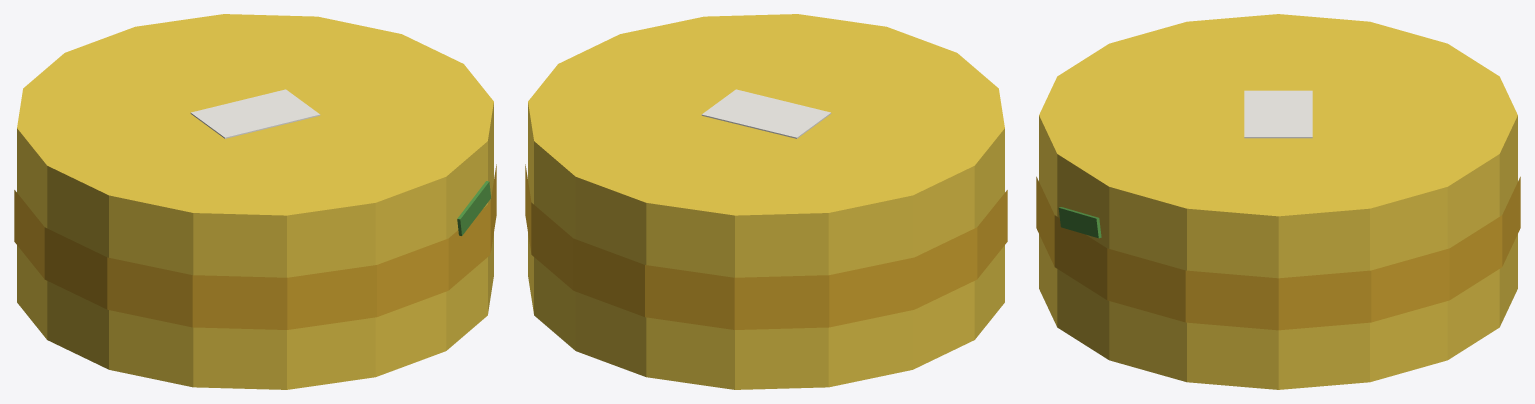
The model's file is super_fake_cheese.glb.
The picture shows the model from 3 angles, left to right: view 1: azimuth 30°, elevation 25°; view 2: azimuth 150°, elevation 25°; view 3: azimuth 270°, elevation 25°; orthographic projection.
Visible parts, largest first — view 1: cheese_cheese_yellow, rind_fake_cheese_rind, label_cheese_label, bills_bill_green; view 2: cheese_cheese_yellow, rind_fake_cheese_rind, label_cheese_label; view 3: cheese_cheese_yellow, rind_fake_cheese_rind, label_cheese_label, bills_bill_green.
Boxes of the visible parts, x1,y1,x2,y2 form: cheese_cheese_yellow: (17,14,493,389); rind_fake_cheese_rind: (14,164,496,329); label_cheese_label: (190,89,320,138); bills_bill_green: (457,181,490,235); cheese_cheese_yellow: (528,14,1004,389); rind_fake_cheese_rind: (525,164,1007,329); label_cheese_label: (701,89,831,138); cheese_cheese_yellow: (1039,14,1517,389); rind_fake_cheese_rind: (1036,176,1520,330); label_cheese_label: (1244,90,1312,138); bills_bill_green: (1058,207,1101,238).
Size of the model in its own units: 0.708 by 0.282 by 0.708.
